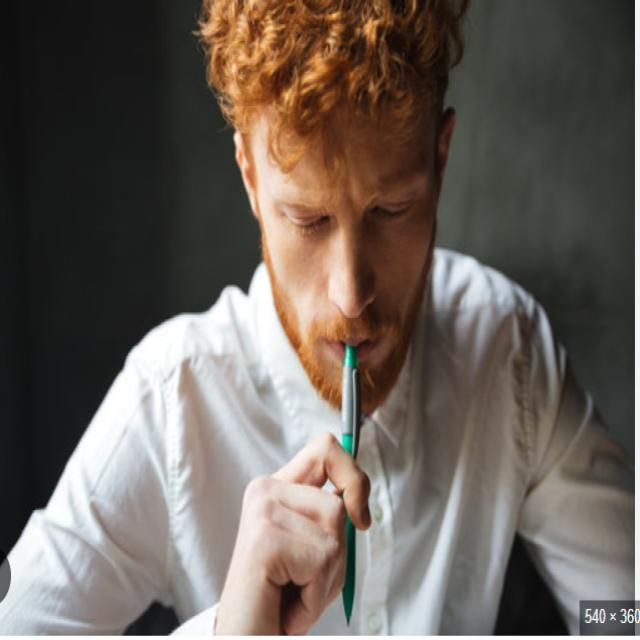face_no_mask: (236, 57, 454, 392)
